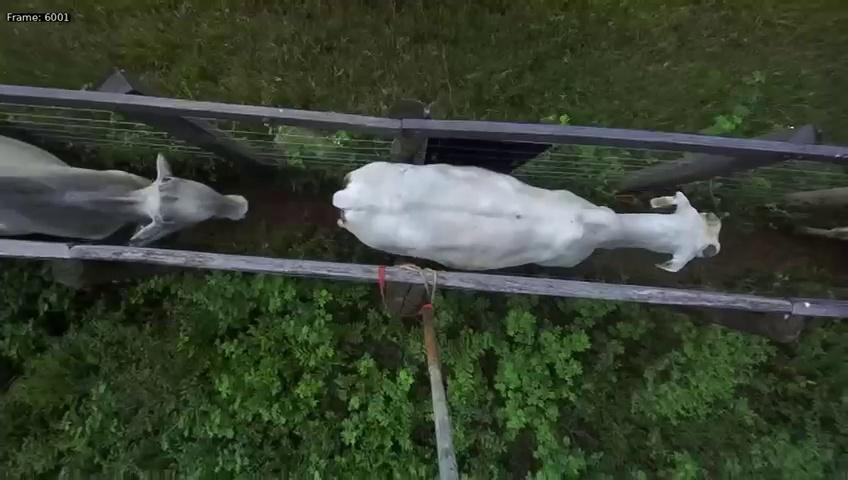cattle: (328, 152, 725, 277), (0, 118, 271, 252)
